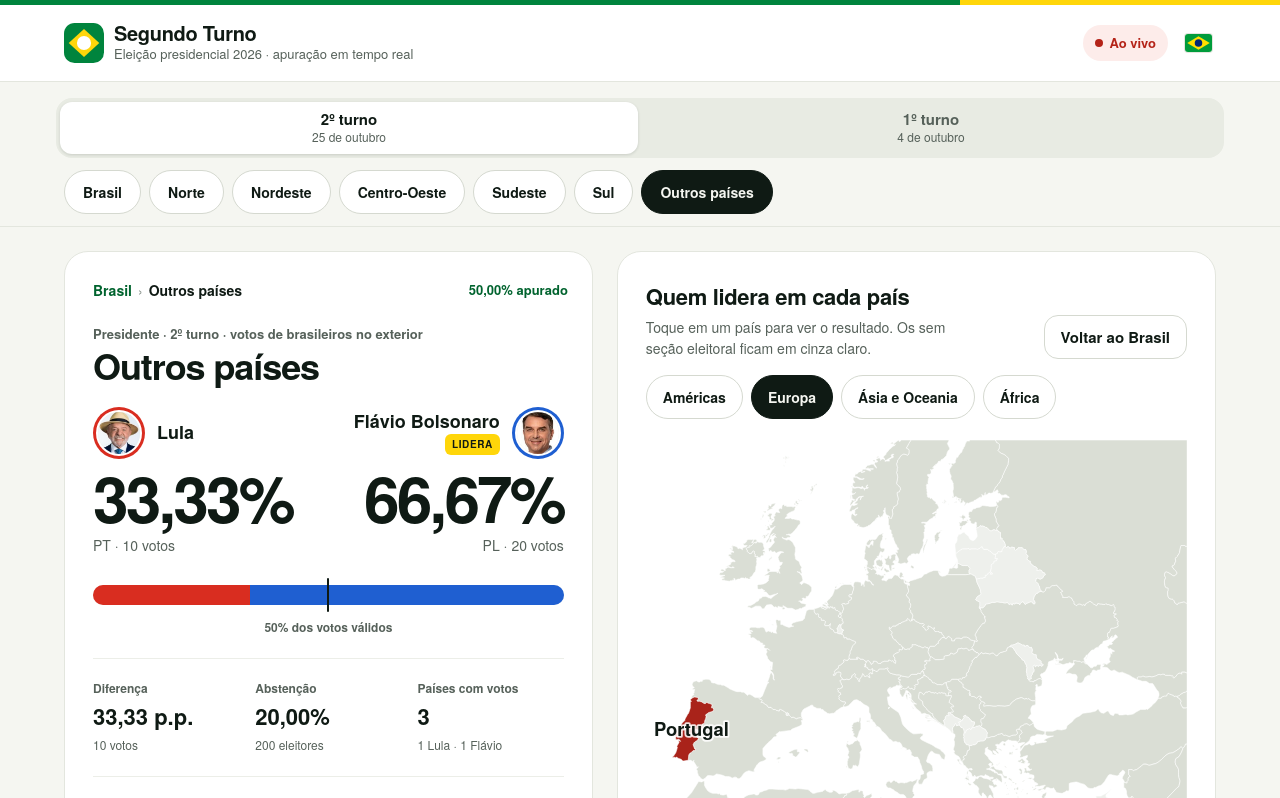
it: App abroad votes › swaps the map of Brazil for a map of the countries of a continent
Check: the heading "Quem lidera em cada país" is shown, box [646,280,951,313]
Check: the element "Estados" is not shown
Click the button "Voltar ao Brasil": (1115, 337) [1044,315,1187,359]
(page scrolled)
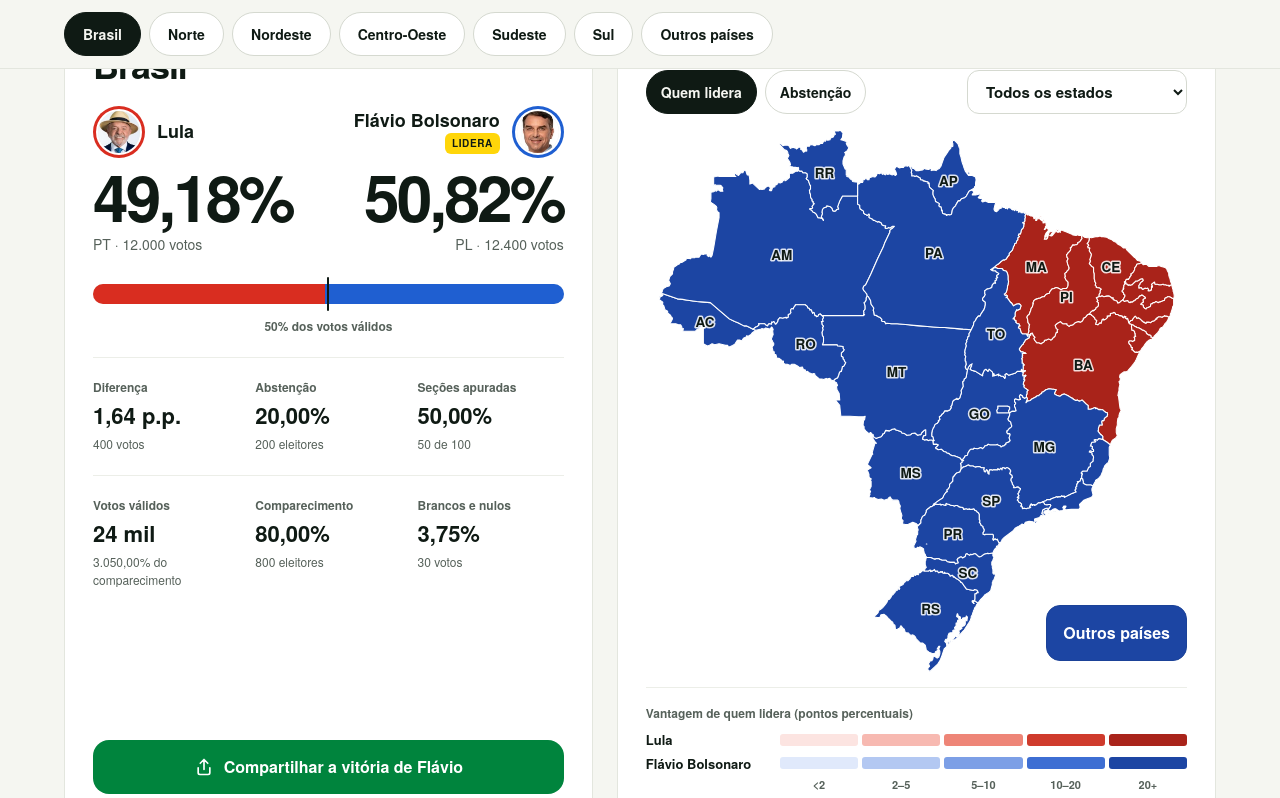
Check: the icon named "Estados" is shown, box [646,130,1187,671]
